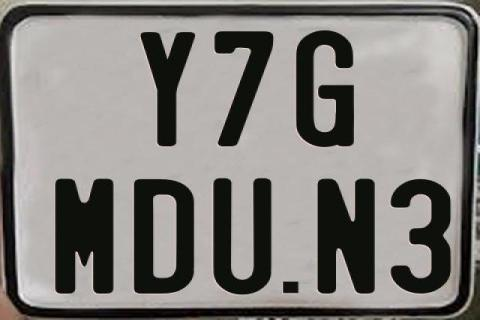0: (214, 31, 276, 148), (389, 177, 449, 297)
D: (132, 177, 198, 292)
G: (294, 30, 352, 148)
M: (53, 176, 113, 294)
N: (315, 177, 377, 297)
U: (210, 177, 270, 297)
Y: (138, 32, 199, 147)
